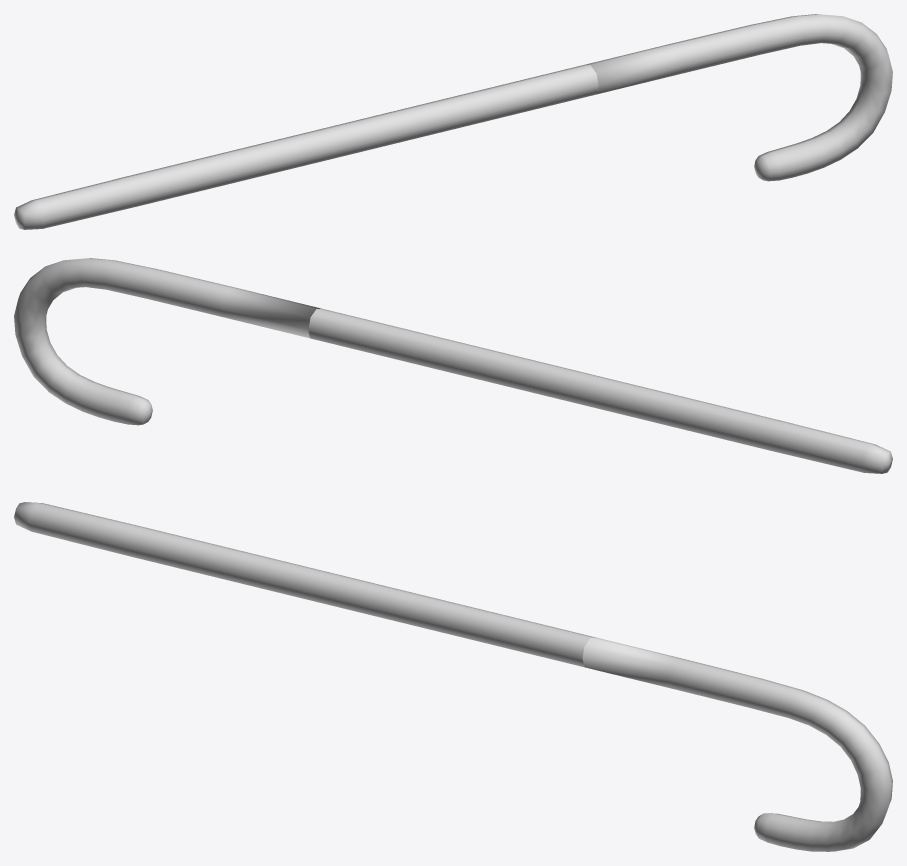
The model's file is Katana34.glb.
The picture shows the model from 3 angles, top to bottom: view 1: azimuth 30°, elevation 25°; view 2: azimuth 150°, elevation 25°; view 3: azimuth 330°, elevation 25°; orthographic projection.
Visible parts, largest first — view 1: Cube.003, Cube.001; view 2: Cube.003, Cube.001; view 3: Cube.003, Cube.001.
Part boxes in pixels (left/top/right/bottom): Cube.003: left=14, top=64, right=598, bottom=229; Cube.001: left=586, top=14, right=892, bottom=181; Cube.003: left=308, top=308, right=892, bottom=473; Cube.001: left=14, top=258, right=320, bottom=425; Cube.003: left=14, top=502, right=595, bottom=667; Cube.001: left=582, top=637, right=892, bottom=851.
Size of the model in its own units: 1.14 by 0.1998 by 0.0365.
2 materials, 2 textured.
